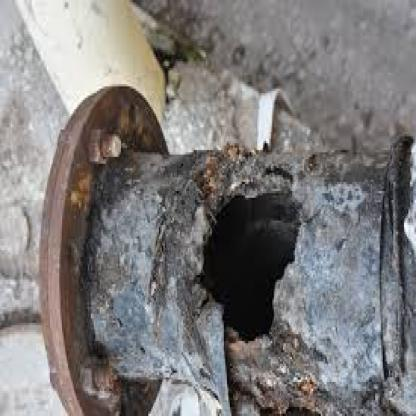burst: (181, 182, 324, 335)
